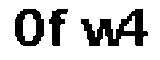0: (13, 3, 46, 49)
4: (120, 3, 152, 48)
f: (49, 5, 68, 47)
w: (80, 10, 123, 52)
